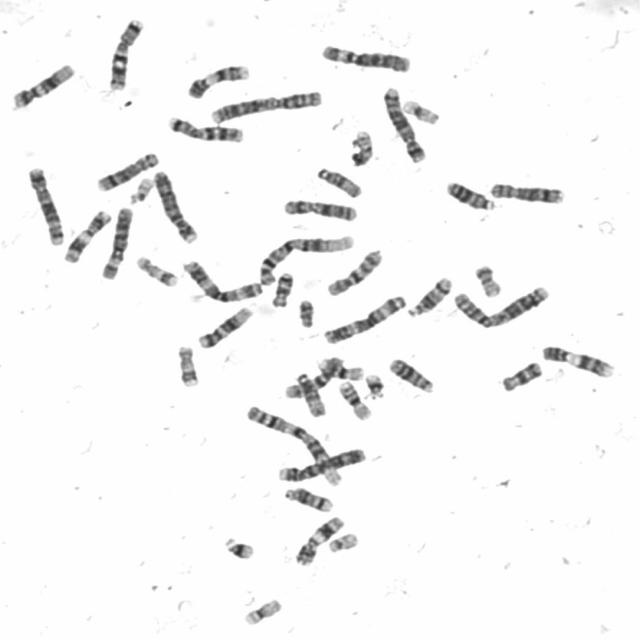A1: (241, 400, 345, 487), (254, 230, 357, 286)
A2: (448, 279, 554, 330), (204, 85, 326, 124)
A3: (318, 289, 408, 345), (177, 254, 266, 304)
B4: (149, 164, 200, 244), (273, 443, 369, 483)
B5: (378, 82, 428, 164), (22, 161, 67, 246)
C10: (322, 244, 386, 297), (280, 352, 345, 400)
C11: (58, 204, 113, 265), (290, 511, 346, 567)
C12: (6, 58, 77, 110), (192, 302, 255, 349)
C6: (316, 38, 413, 74), (96, 202, 135, 280)
C7: (104, 12, 146, 92), (162, 110, 245, 144)
C8: (91, 146, 161, 192), (484, 177, 568, 206)
C9: (537, 340, 617, 379), (182, 59, 253, 100)
D13: (384, 353, 435, 394), (442, 176, 498, 211)
D14: (402, 272, 454, 319), (279, 482, 336, 513)
D15: (312, 162, 364, 199), (292, 367, 328, 418)
E16: (334, 376, 373, 421), (313, 353, 366, 381)
E17: (130, 250, 180, 288), (172, 340, 201, 388)
E18: (496, 356, 544, 392), (267, 267, 296, 308)
F19: (238, 593, 284, 627), (398, 94, 442, 126)
F20: (470, 259, 504, 298), (345, 126, 375, 167)
G21: (218, 532, 257, 560), (360, 368, 387, 400)
G22: (123, 172, 155, 205), (324, 528, 361, 553)
X: (279, 194, 359, 222)
Y: (294, 294, 316, 328)
